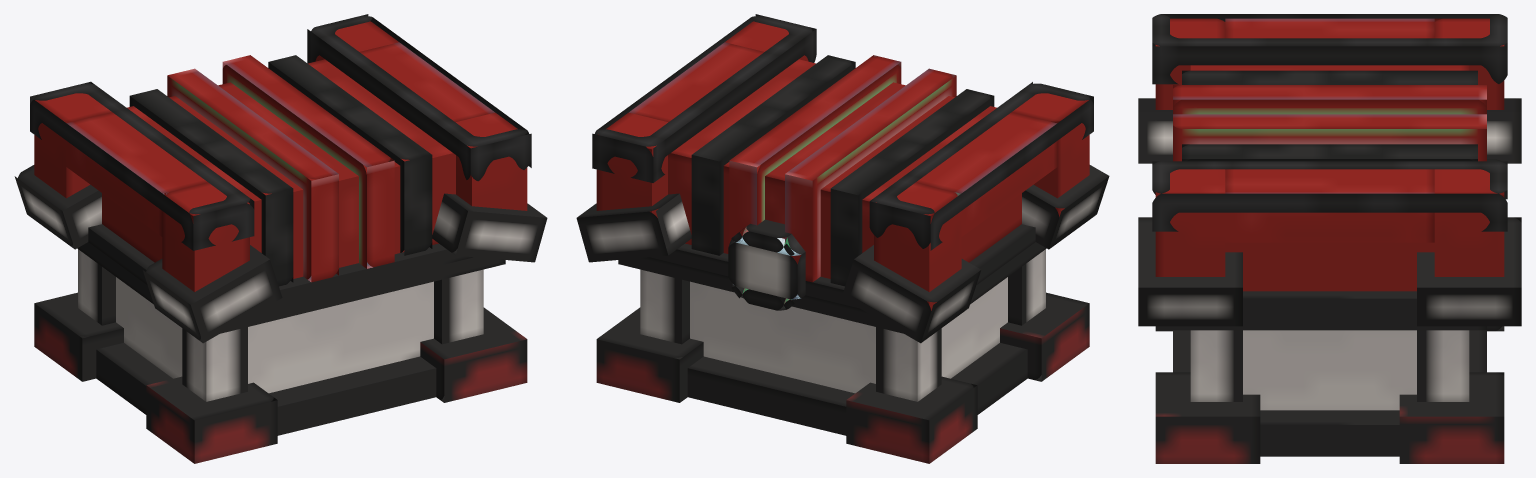
The model's file is chest_poke_ball.obj.
3 renders of one model, left to right at view 1: azimuth 30°, elevation 25°; view 2: azimuth 150°, elevation 25°; view 3: azimuth 270°, elevation 25°, orthographic. The views are drawn at different scales.
Parts seen in each view (by area): view 1: cube; view 2: cube; view 3: cube.
Boxes of the visible parts, x1=… form: cube: x1=14, y1=14, x2=547, y2=463; cube: x1=576, y1=14, x2=1109, y2=463; cube: x1=1138, y1=14, x2=1521, y2=463.
Bounding box in the file's own units: 1.61 × 1.08 × 1.38.
